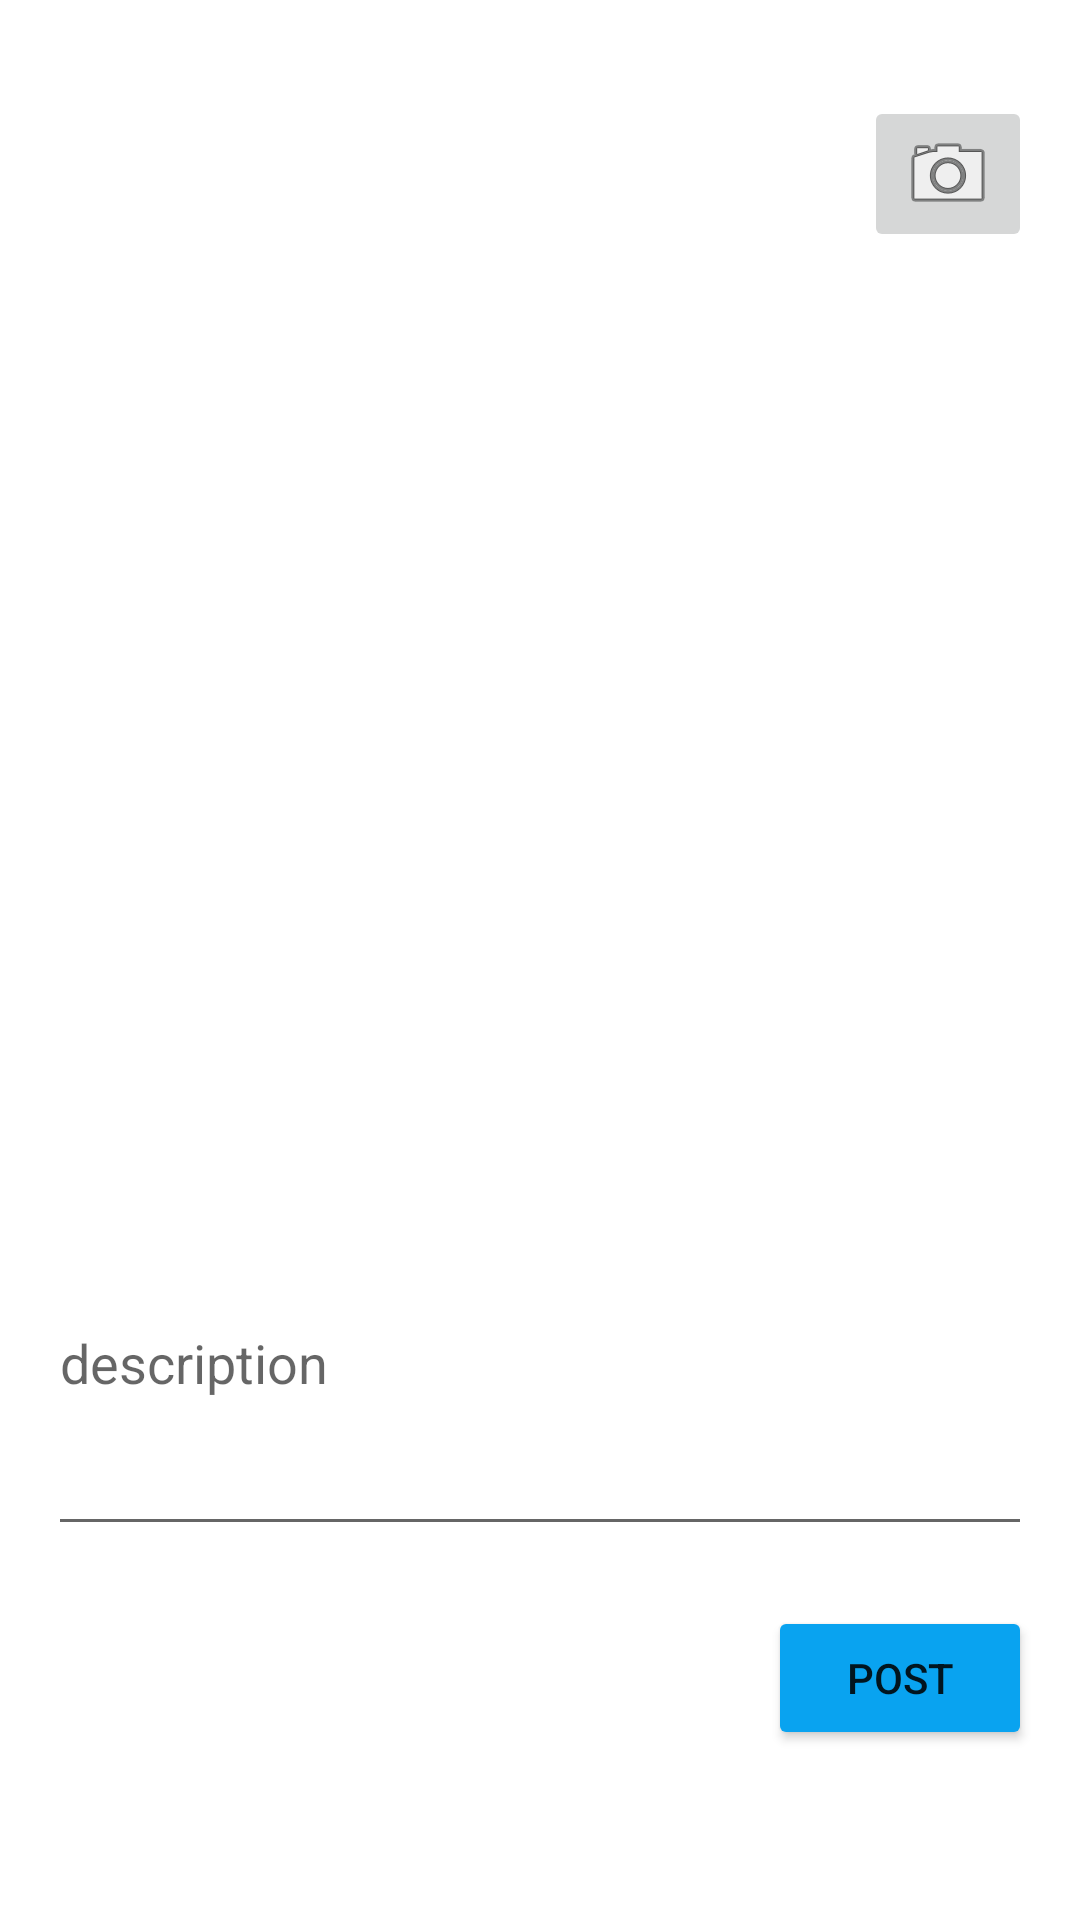

Icons on this 1080px x 1920px Android screen, each with the point to tap as (x,y):
camera: (948,174)
